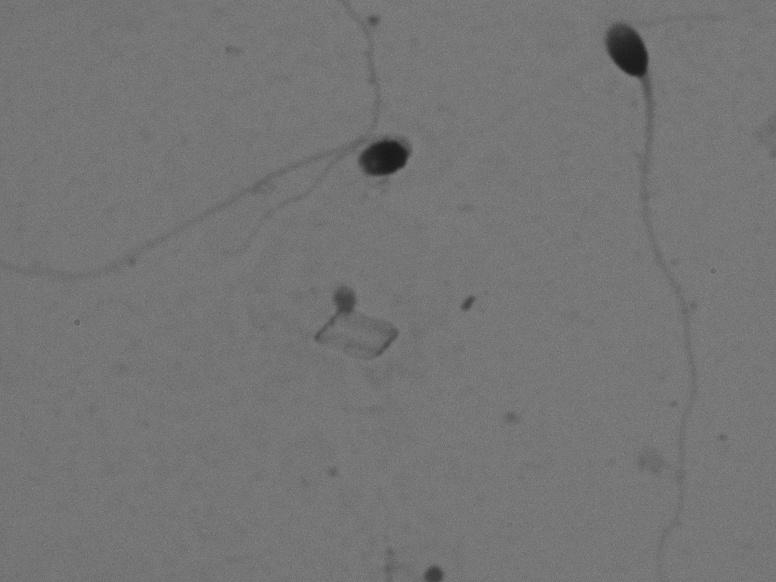Abnormal: (21, 114, 447, 315)
Normal: (581, 11, 713, 572)
